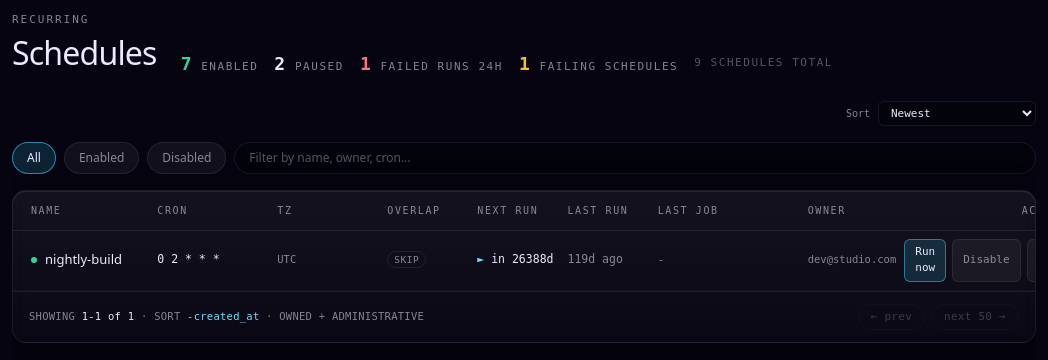
Test case: the filter is in the query key, so each chip shows its own rows
Expected: the link "nightly-build" is shown, [45, 250, 122, 270]
Click the button "Disabled" at (187, 158), box [147, 142, 226, 174]
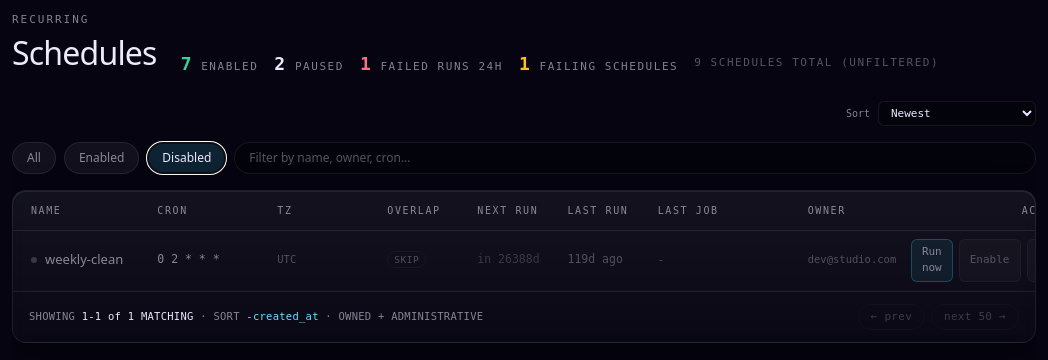
Now the link "weekly-clean" is shown, box [45, 250, 123, 270]
Now the link "nightly-build" is gone
Click the button "All" at (34, 158), box [12, 142, 56, 174]
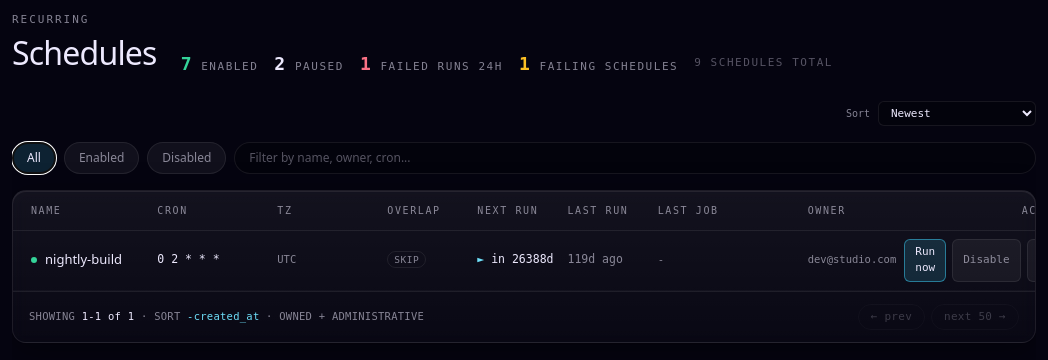
Now the link "nightly-build" is shown, box [45, 250, 122, 270]
